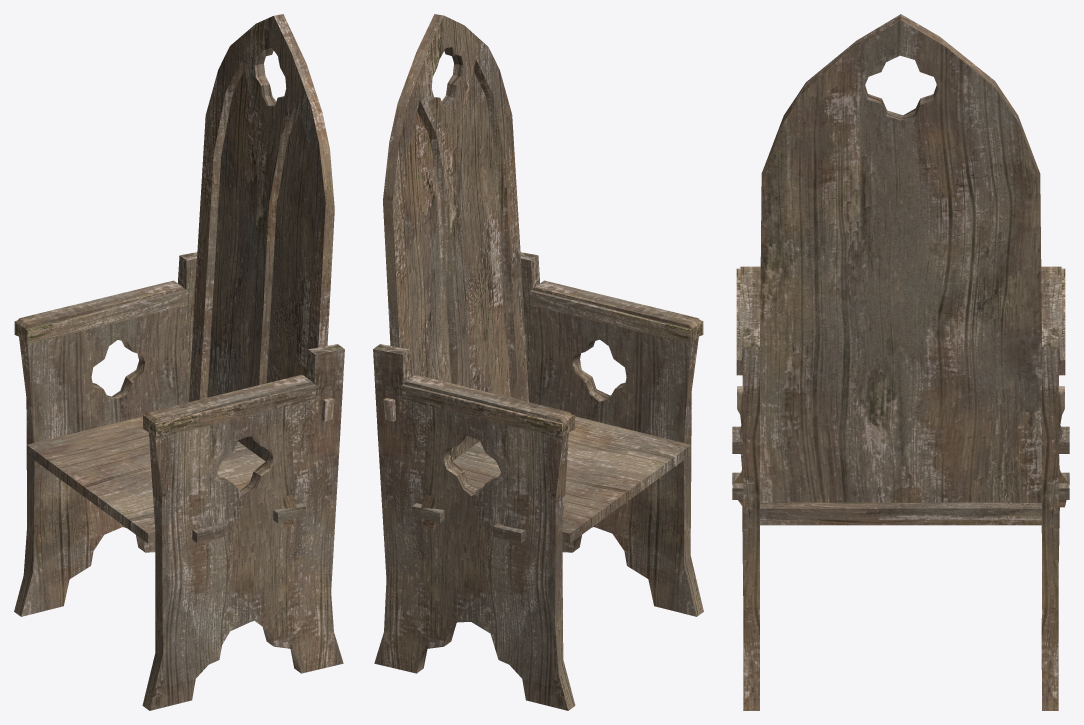
The model's file is SM_HighBackChair.fbx.
3 views of the same model, side by side, from view 1: azimuth 30°, elevation 25°; view 2: azimuth 150°, elevation 25°; view 3: azimuth 270°, elevation 25° (orthographic). The views are drawn at different scales.
Parts seen in each view (by area): view 1: SM_HighBackChair_LOD0; view 2: SM_HighBackChair_LOD0; view 3: SM_HighBackChair_LOD0.
Part boxes in pixels (x1,y1,x2,y2): SM_HighBackChair_LOD0: (14,14,344,710); SM_HighBackChair_LOD0: (373,14,703,710); SM_HighBackChair_LOD0: (732,14,1069,710).
Bounding box in the file's own units: 60.25 × 75.11 × 171.
